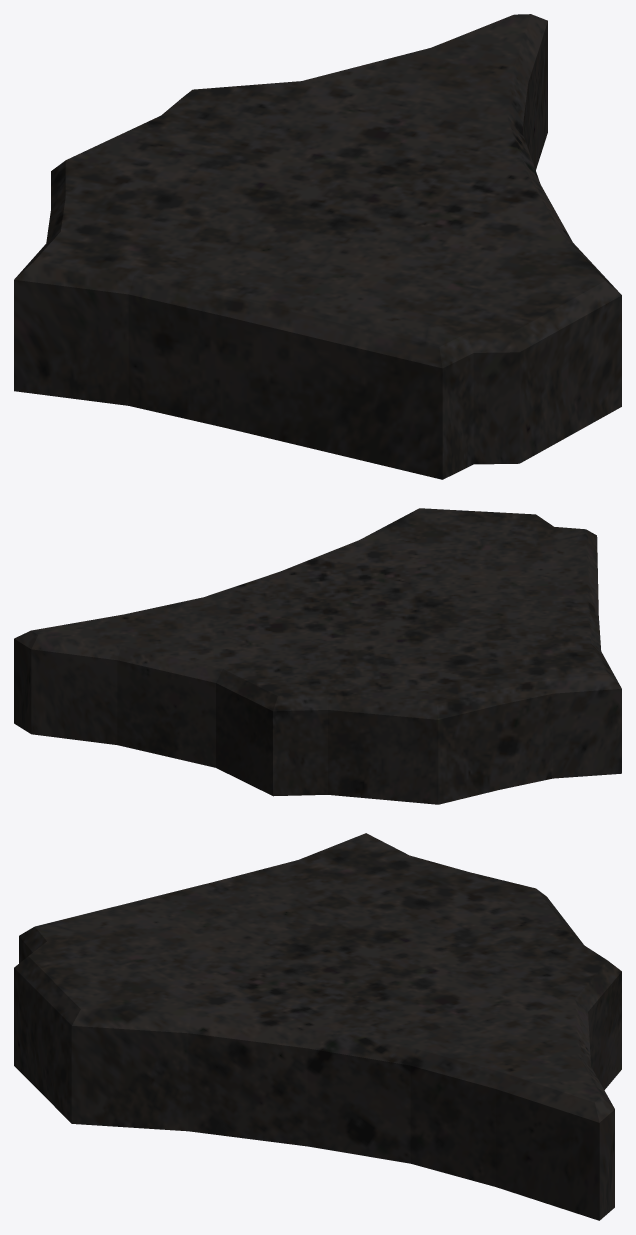
The model's file is FloorDmg05.fbx.
3 views of the same model, one above another, from view 1: azimuth 30°, elevation 25°; view 2: azimuth 150°, elevation 25°; view 3: azimuth 270°, elevation 25° (orthographic). The views are drawn at different scales.
Parts seen in each view (by area): view 1: SM_ENV_NATURE_Cave_Floor_Dmg_05.mo; view 2: SM_ENV_NATURE_Cave_Floor_Dmg_05.mo; view 3: SM_ENV_NATURE_Cave_Floor_Dmg_05.mo.
Part boxes in pixels (bbox=[...]): SM_ENV_NATURE_Cave_Floor_Dmg_05.mo: bbox=[14, 14, 621, 479]; SM_ENV_NATURE_Cave_Floor_Dmg_05.mo: bbox=[14, 508, 621, 804]; SM_ENV_NATURE_Cave_Floor_Dmg_05.mo: bbox=[14, 833, 621, 1220].
Size of the model in its own units: 168 by 30 by 150.
1 material, 1 textured.
